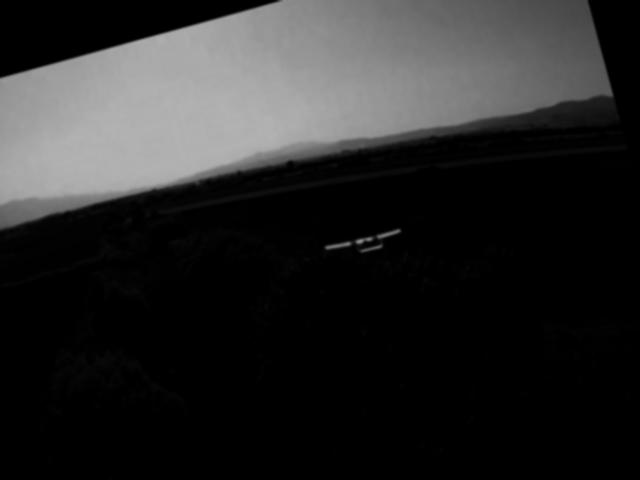hedef: (314, 210, 412, 272)
